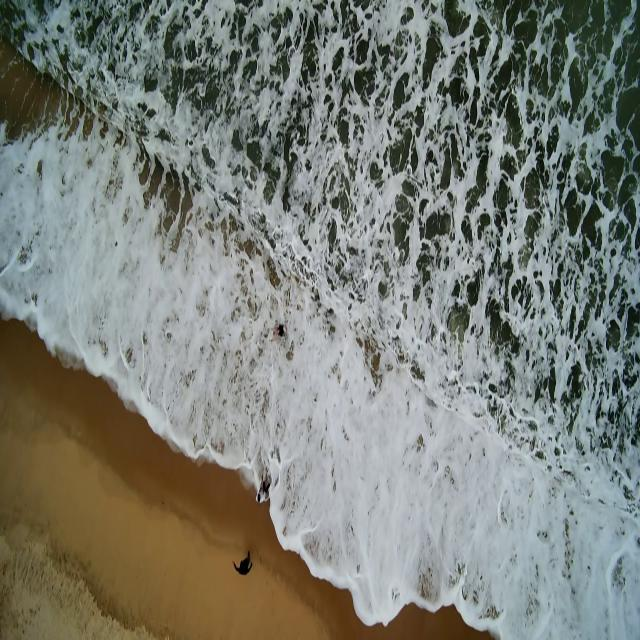dummy: (271, 322, 287, 344)
